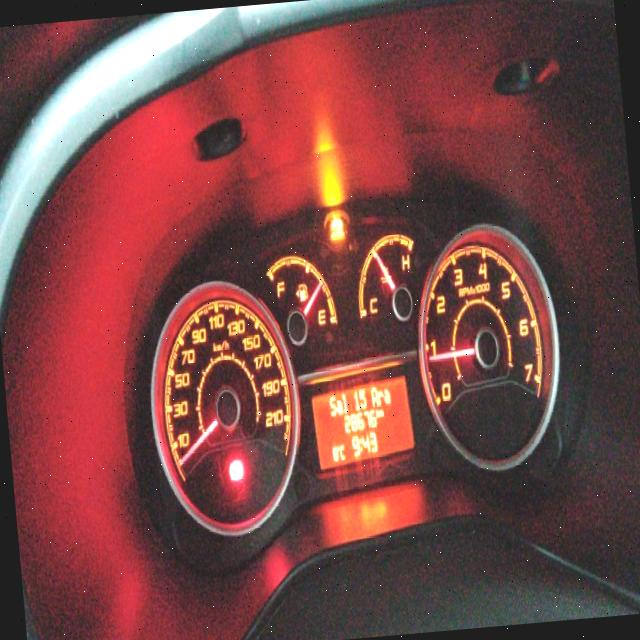odometer: (308, 371, 420, 473)
